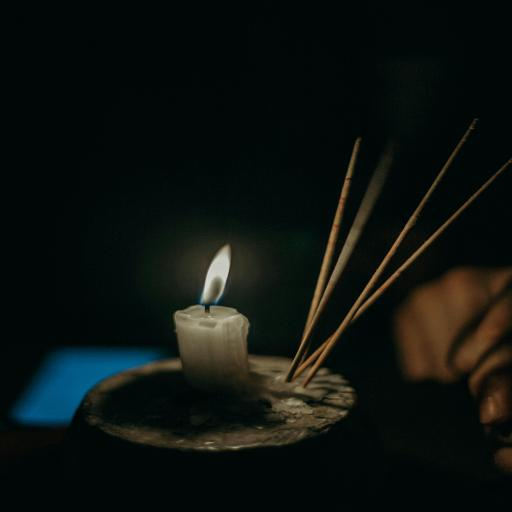candlelight: (173, 241, 254, 401)
